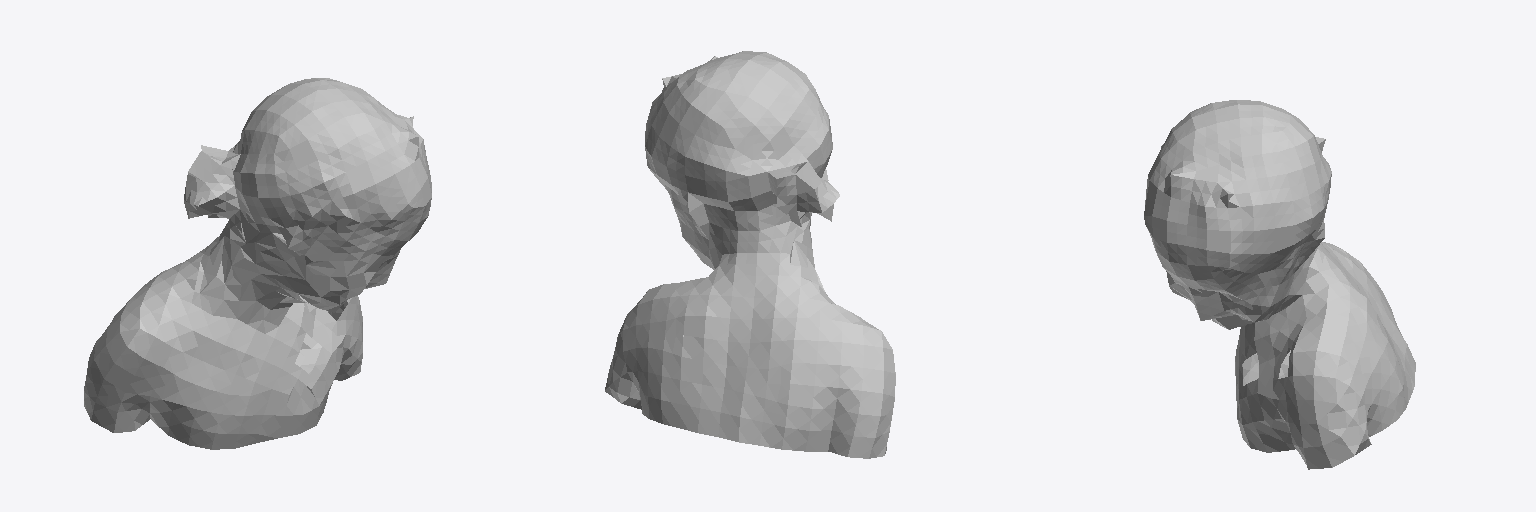
The model's file is bimbaPoly.obj.
3 views of the same model, side by side, from view 1: azimuth 30°, elevation 25°; view 2: azimuth 150°, elevation 25°; view 3: azimuth 270°, elevation 25° (orthographic).
Visible parts, largest first — view 1: bimba-quad; view 2: bimba-quad; view 3: bimba-quad.
Part boxes in pixels (x1,y1,x2,y2): bimba-quad: (84, 78, 431, 449); bimba-quad: (605, 51, 895, 458); bimba-quad: (1144, 100, 1415, 469).
Size of the model in its own units: 0.8622 by 0.9969 by 0.72.